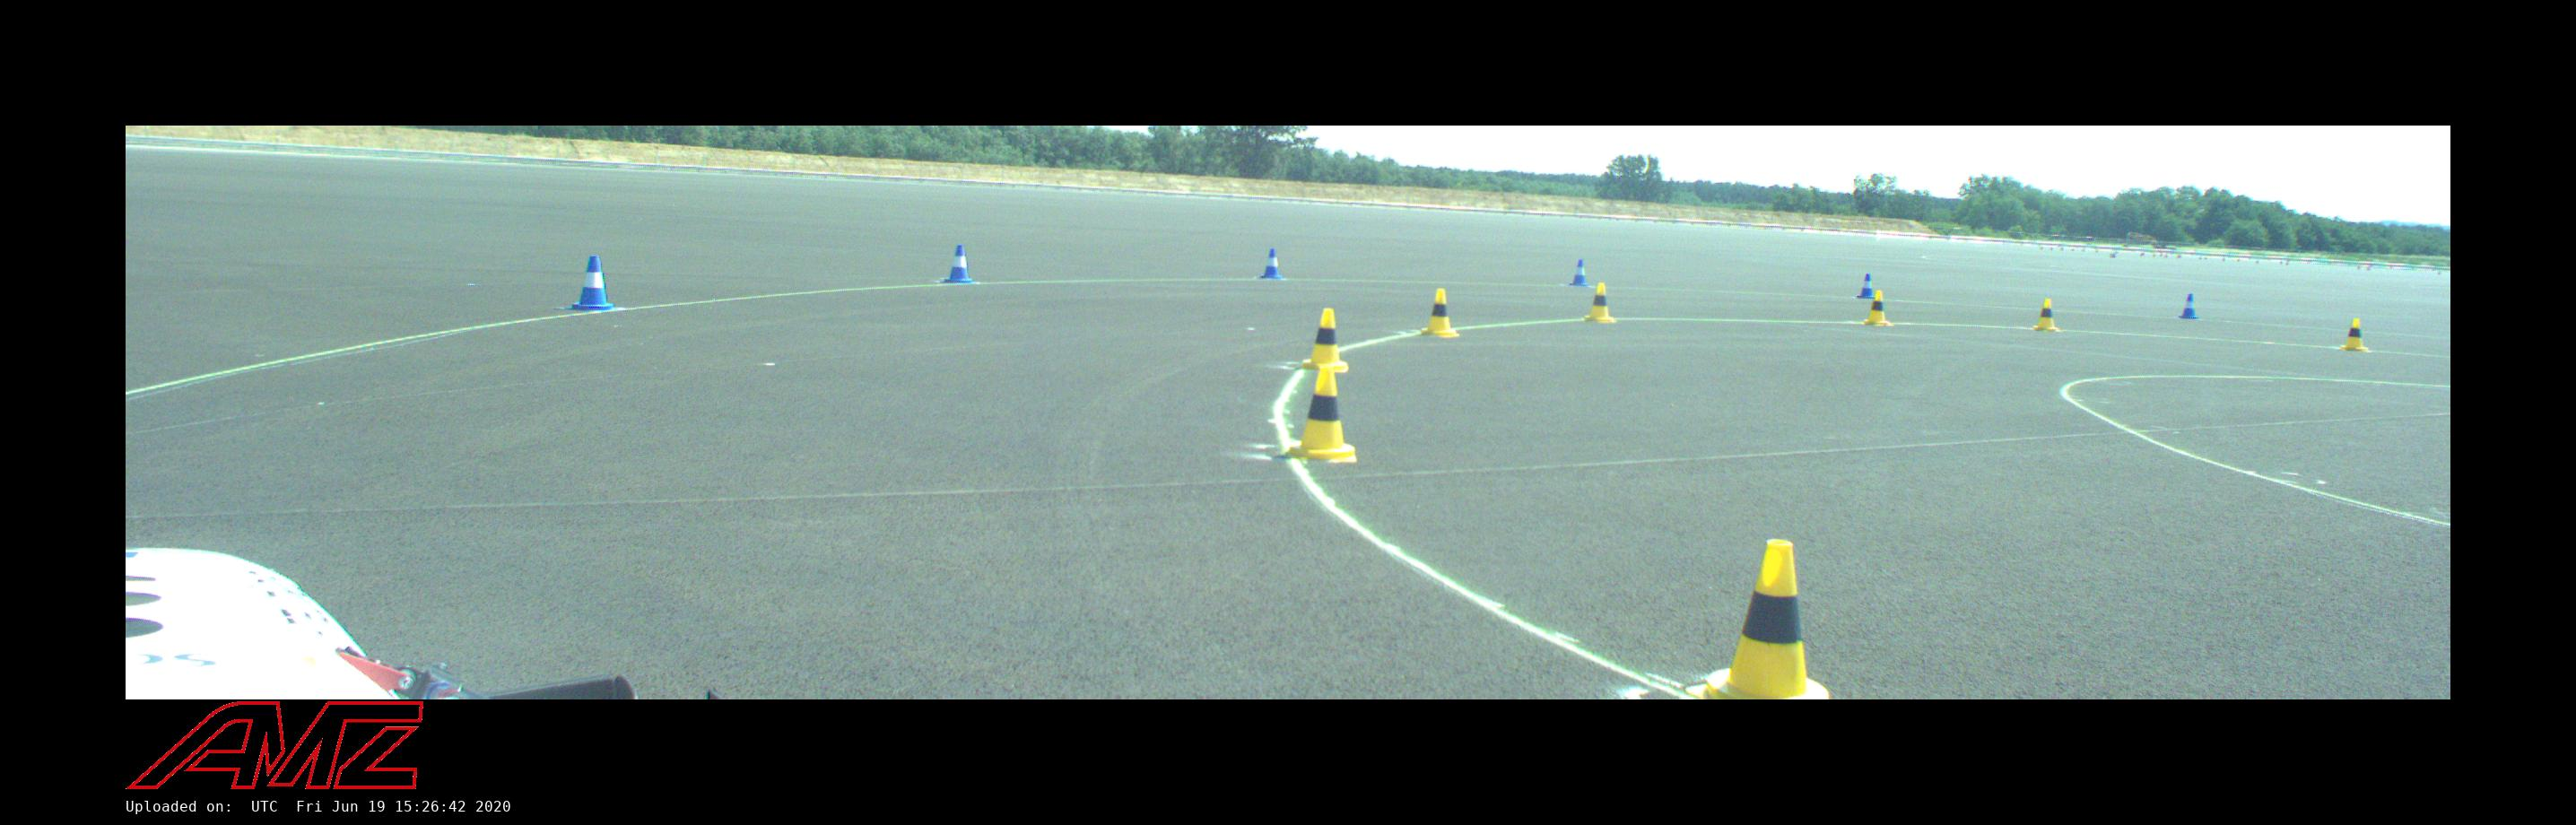blue_cone: (567, 256, 616, 311), (941, 245, 974, 283), (1260, 248, 1281, 279), (1856, 273, 1876, 299), (1569, 260, 1589, 286), (2178, 294, 2198, 319)
yellow_cone: (1686, 539, 1832, 698), (1290, 368, 1355, 462), (1303, 309, 1349, 371), (1419, 289, 1459, 337), (1584, 283, 1613, 320), (1861, 291, 1889, 325), (2339, 319, 2366, 350), (2031, 299, 2057, 330)
